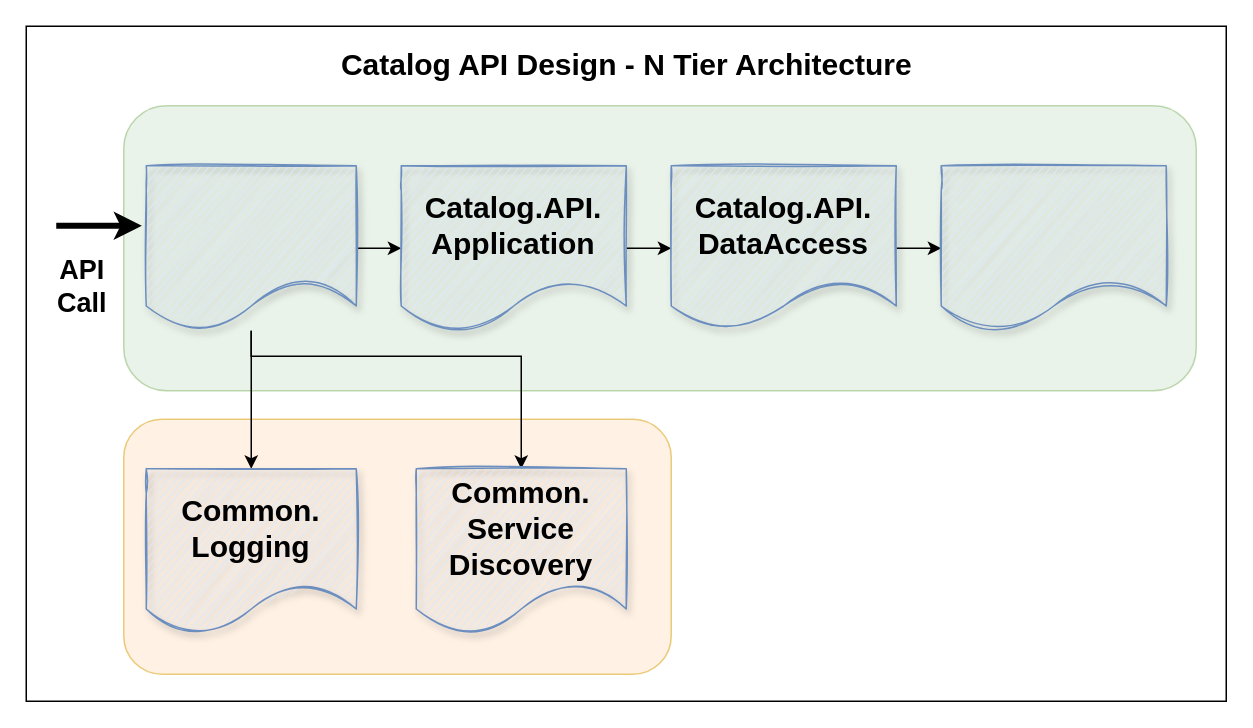
This 1253x728 diagram has some shape labels left out. Here are the shapes that lost their labels. From the top down, the centre of each, then its label:
(252,249): Catalog.API. WebApi
(1054,249): Catalog.API. Core
